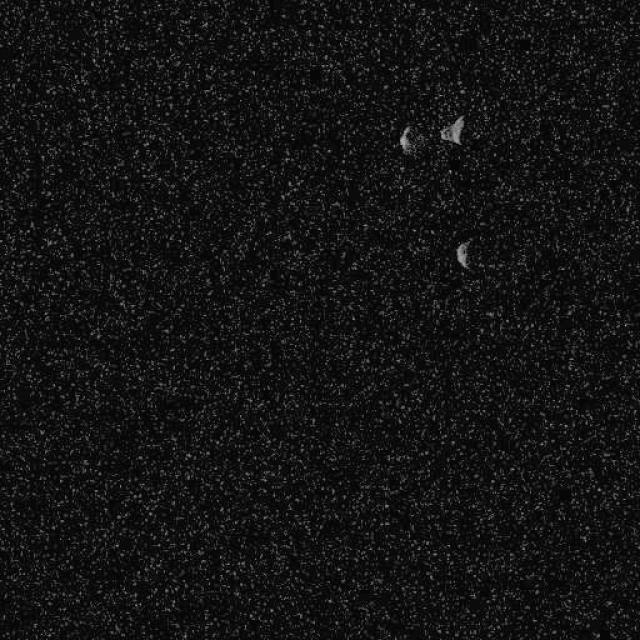D2: (439, 114, 465, 145), (398, 124, 417, 154), (455, 240, 470, 270)
